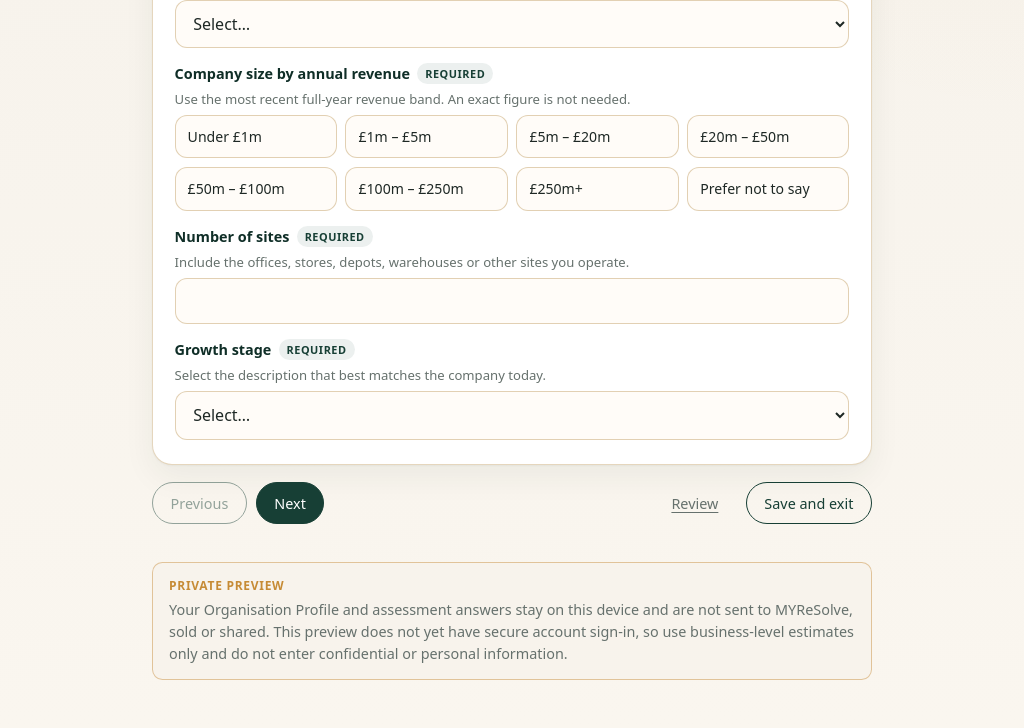
Test: OrganisationProfileApp › shows only the primary Review button on the final section
(page scrolled)
Click the button with test id "profile-next" at (290,503), box [256, 482, 324, 524]
(page scrolled)
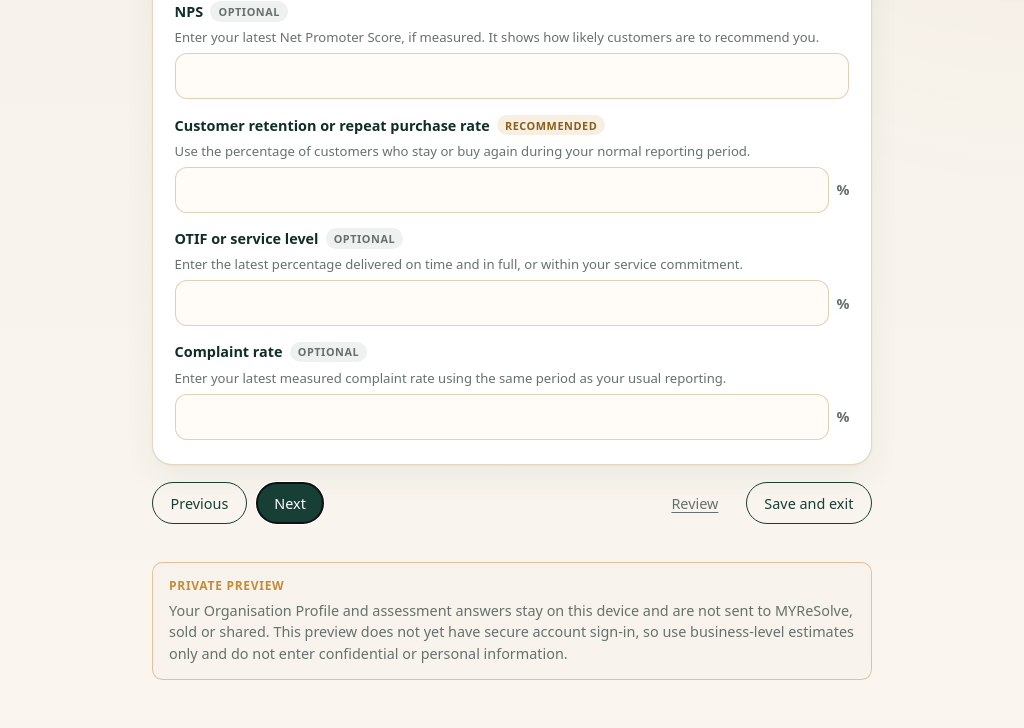
Click the button with test id "profile-next" at (290,503), box [256, 482, 324, 524]
(page scrolled)
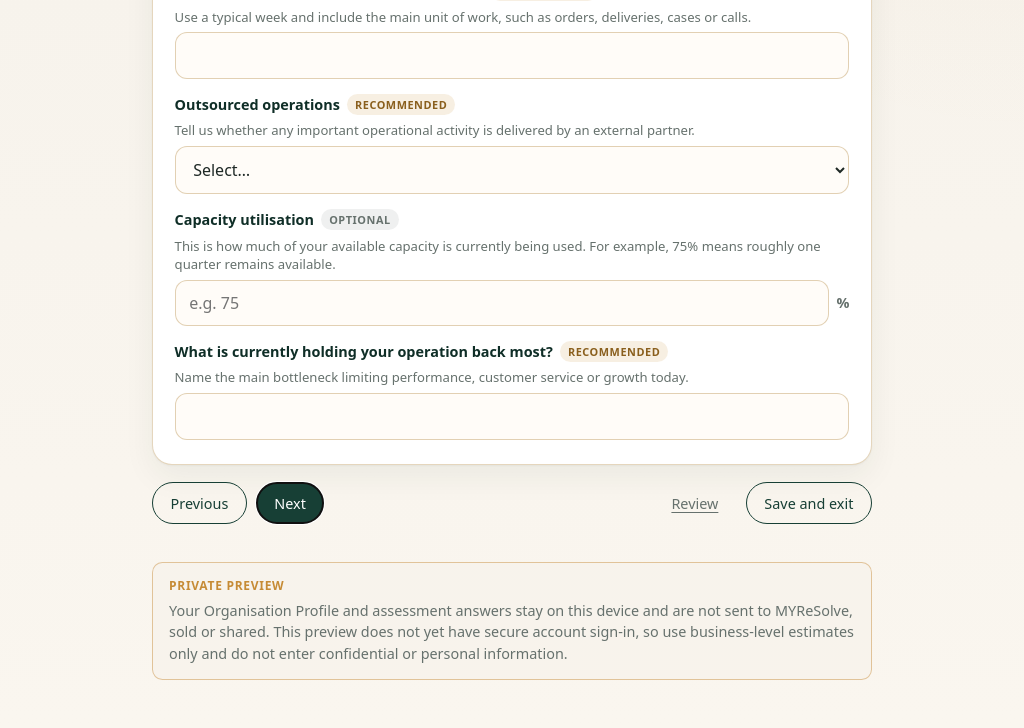
Click the button with test id "profile-next" at (290,503), box [256, 482, 324, 524]
(page scrolled)
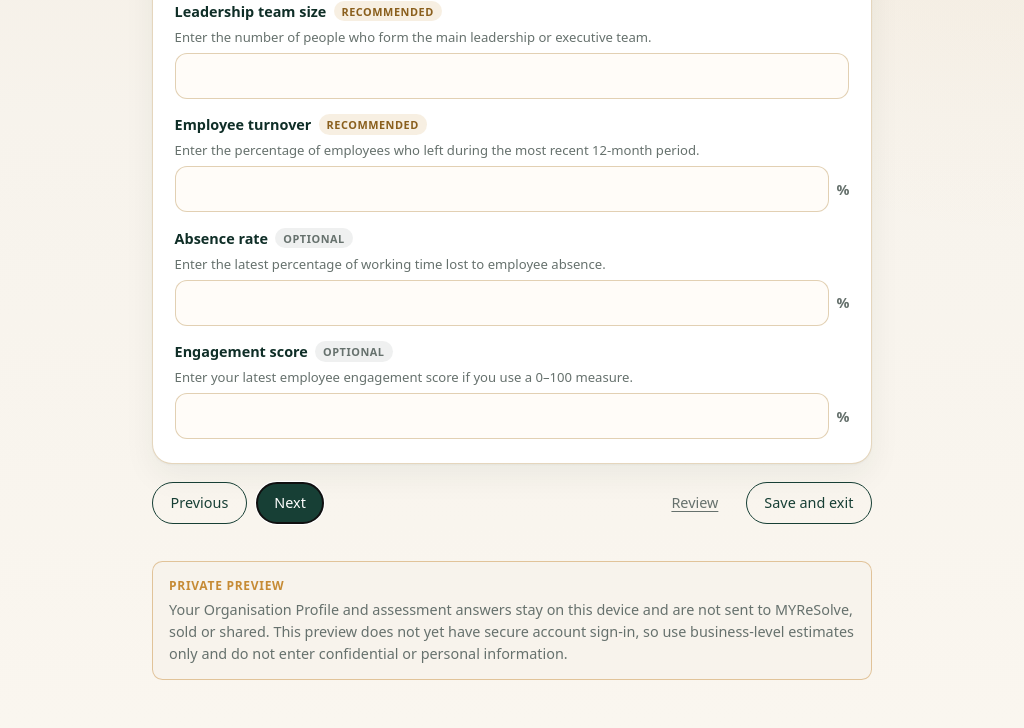
Click the button with test id "profile-next" at (290,503), box [256, 482, 324, 524]
(page scrolled)
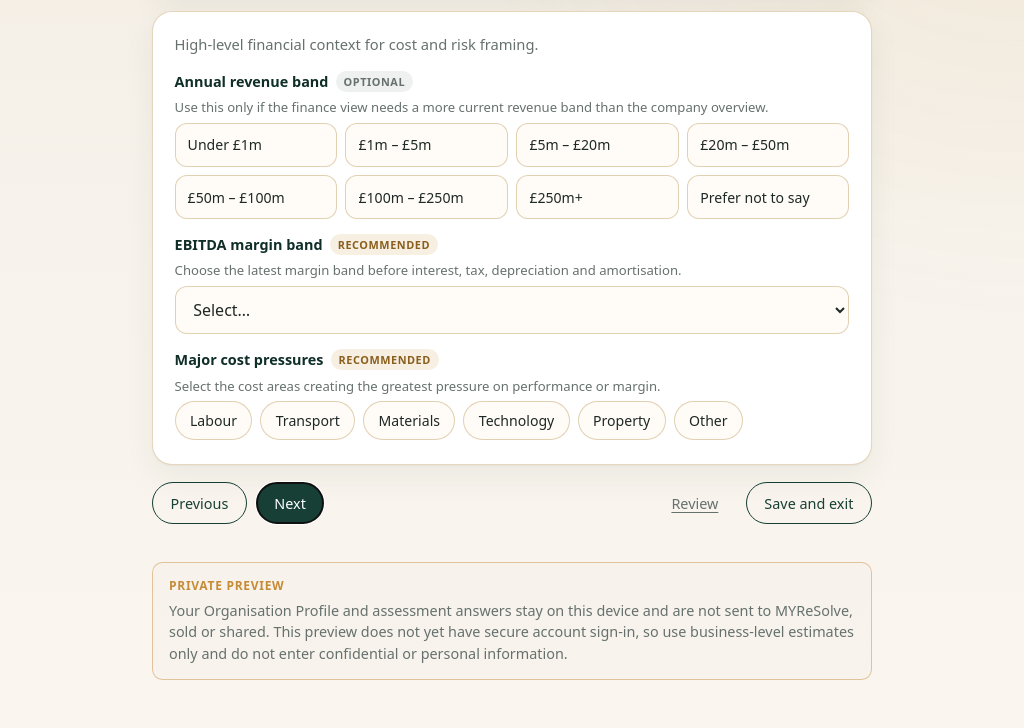
Click the button with test id "profile-next" at (290,503), box [256, 482, 324, 524]
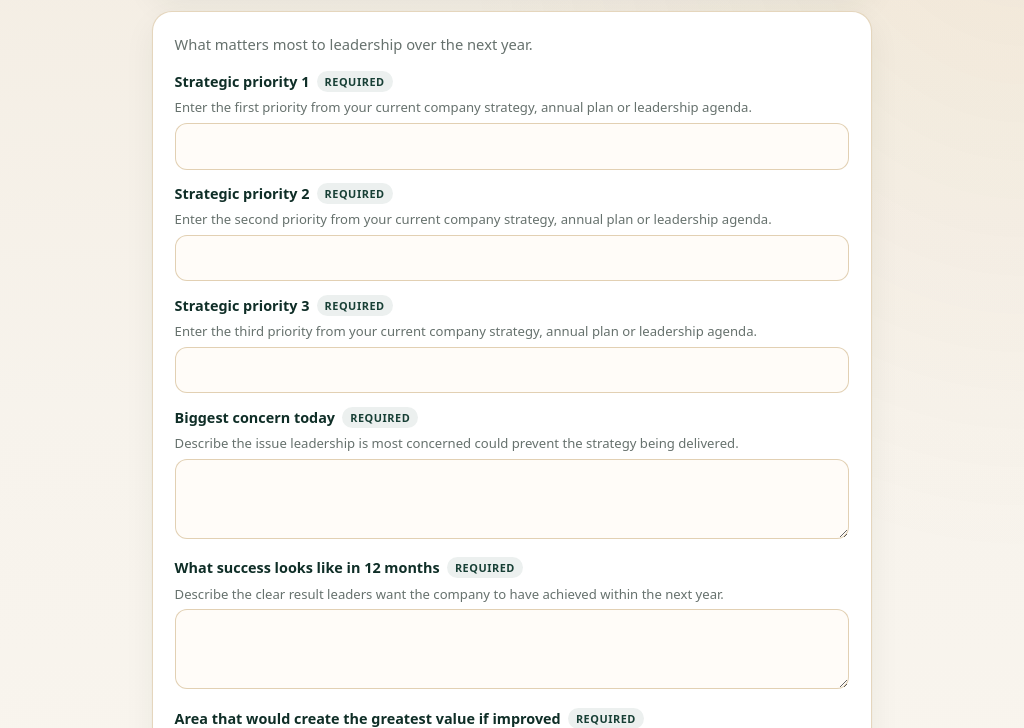
expect the button with test id "profile-open-review" is gone: met
